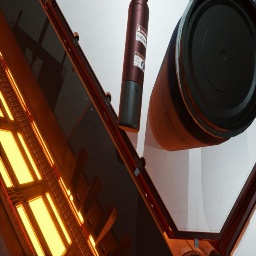0: (23, 100, 31, 115)
NitrogenTank ,: (118, 0, 149, 133)
